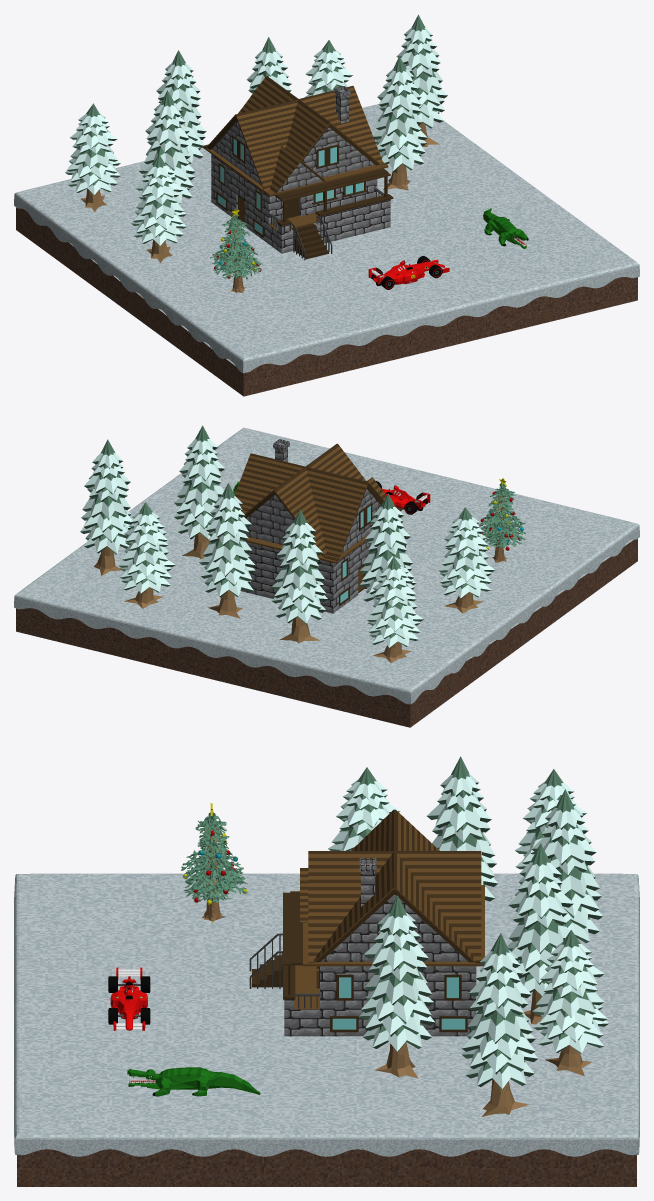
3 views of the same model, one above another, from view 1: azimuth 30°, elevation 25°; view 2: azimuth 150°, elevation 25°; view 3: azimuth 270°, elevation 25° (orthographic). The views are drawn at different scales.
Visible parts, largest first — view 1: Cube.003, Cube.586, OBJRANDOM_CHRISTMAS_TREE, VEHICLES_FORMULA_1, ANIMAL_COCODRILO; view 2: Cube.003, Cube.586, OBJRANDOM_CHRISTMAS_TREE, VEHICLES_FORMULA_1; view 3: Cube.003, Cube.586, OBJRANDOM_CHRISTMAS_TREE, ANIMAL_COCODRILO, VEHICLES_FORMULA_1.
Boxes of the visible parts, bbox=[...] form: Cube.003: bbox=[14, 14, 639, 396]; Cube.586: bbox=[202, 76, 393, 260]; OBJRANDOM_CHRISTMAS_TREE: bbox=[210, 209, 262, 292]; VEHICLES_FORMULA_1: bbox=[368, 256, 449, 289]; ANIMAL_COCODRILO: bbox=[483, 208, 528, 248]; Cube.003: bbox=[14, 425, 639, 727]; Cube.586: bbox=[234, 439, 405, 613]; OBJRANDOM_CHRISTMAS_TREE: bbox=[479, 478, 525, 562]; VEHICLES_FORMULA_1: bbox=[376, 481, 430, 514]; Cube.003: bbox=[14, 756, 639, 1186]; Cube.586: bbox=[249, 809, 484, 1036]; OBJRANDOM_CHRISTMAS_TREE: bbox=[181, 803, 248, 922]; ANIMAL_COCODRILO: bbox=[127, 1067, 260, 1096]; VEHICLES_FORMULA_1: bbox=[108, 967, 150, 1030].
Size of the model in its own units: 4040 by 1665 by 4040.
Materials: 32 (4 with a texture image).
